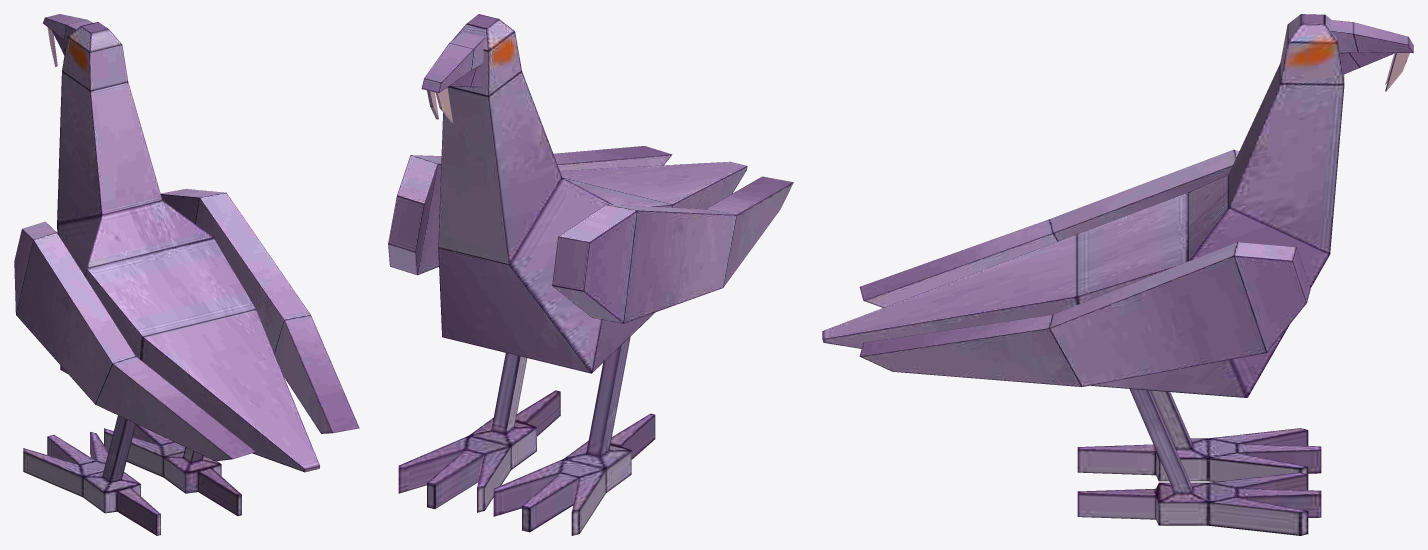
File: Pigeon.fbx
3 views of the same model, side by side, from view 1: azimuth 30°, elevation 25°; view 2: azimuth 150°, elevation 25°; view 3: azimuth 270°, elevation 25° (orthographic). The views are drawn at different scales.
Parts seen in each view (by area): view 1: Body, RightWing, LeftWing, RightFoot, LeftFoot, UpperBeak; view 2: Body, RightWing, RightFoot, LeftFoot, LeftWing, UpperBeak; view 3: Body, LeftWing, LeftFoot, RightWing, RightFoot, UpperBeak.
Part boxes in pixels (x1=…): Body: x1=57, y1=22, x2=319, y2=472; RightWing: x1=14, y1=221, x2=255, y2=461; LeftWing: x1=161, y1=189, x2=359, y2=433; RightFoot: x1=23, y1=415, x2=160, y2=535; LeftFoot: x1=104, y1=424, x2=241, y2=515; UpperBeak: x1=43, y1=14, x2=92, y2=41; Body: x1=438, y1=14, x2=747, y2=373; RightWing: x1=552, y1=176, x2=793, y2=323; RightFoot: x1=493, y1=336, x2=655, y2=535; LeftFoot: x1=398, y1=353, x2=560, y2=512; LeftWing: x1=388, y1=146, x2=672, y2=275; UpperBeak: x1=421, y1=32, x2=485, y2=92; Body: x1=822, y1=14, x2=1344, y2=397; LeftWing: x1=859, y1=242, x2=1310, y2=386; LeftFoot: x1=1077, y1=389, x2=1321, y2=535; RightWing: x1=859, y1=149, x2=1238, y2=307; RightFoot: x1=1077, y1=390, x2=1321, y2=481; UpperBeak: x1=1330, y1=20, x2=1413, y2=53.
Bounding box in the file's own units: 444 × 876 × 989.
1 material, 1 textured.
